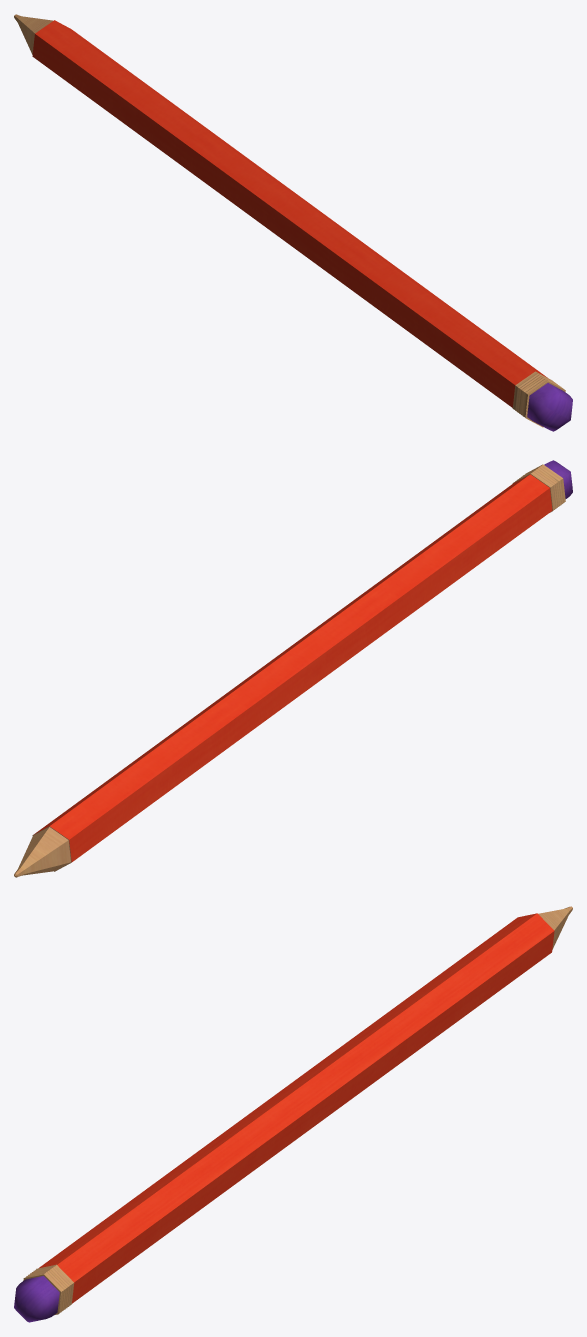
The model's file is Pencil.fbx.
3 views of the same model, one above another, from view 1: azimuth 30°, elevation 25°; view 2: azimuth 150°, elevation 25°; view 3: azimuth 330°, elevation 25° (orthographic).
Visible parts, largest first — view 1: Pencil 1; view 2: Pencil 1; view 3: Pencil 1.
Part boxes in pixels (<box>): Pencil 1: <box>14,14,572,431</box>; Pencil 1: <box>14,460,572,877</box>; Pencil 1: <box>14,906,572,1322</box>.
Bounding box in the file's own units: 0.7563 × 0.8174 × 17.7.
Materials: 1 (1 with a texture image).
